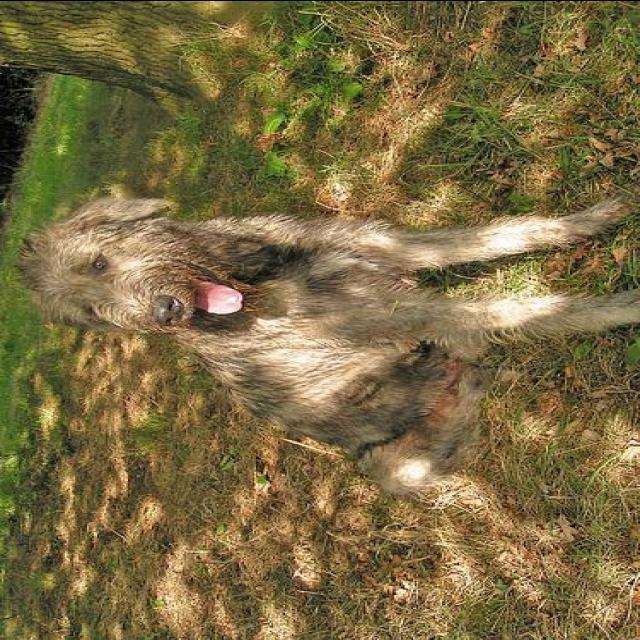irish_wolfhound: (14, 192, 638, 498)
